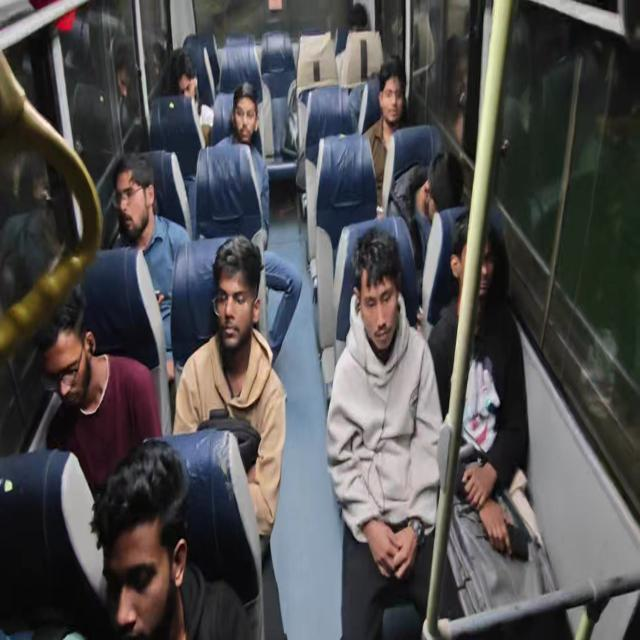person: (7, 13, 560, 638), (325, 226, 444, 638), (172, 234, 287, 561), (428, 211, 530, 557), (90, 436, 254, 639), (35, 284, 162, 498), (213, 81, 302, 364), (110, 154, 190, 377), (1, 148, 64, 308), (214, 81, 270, 243), (362, 56, 410, 212), (408, 150, 464, 270), (163, 46, 214, 148)
